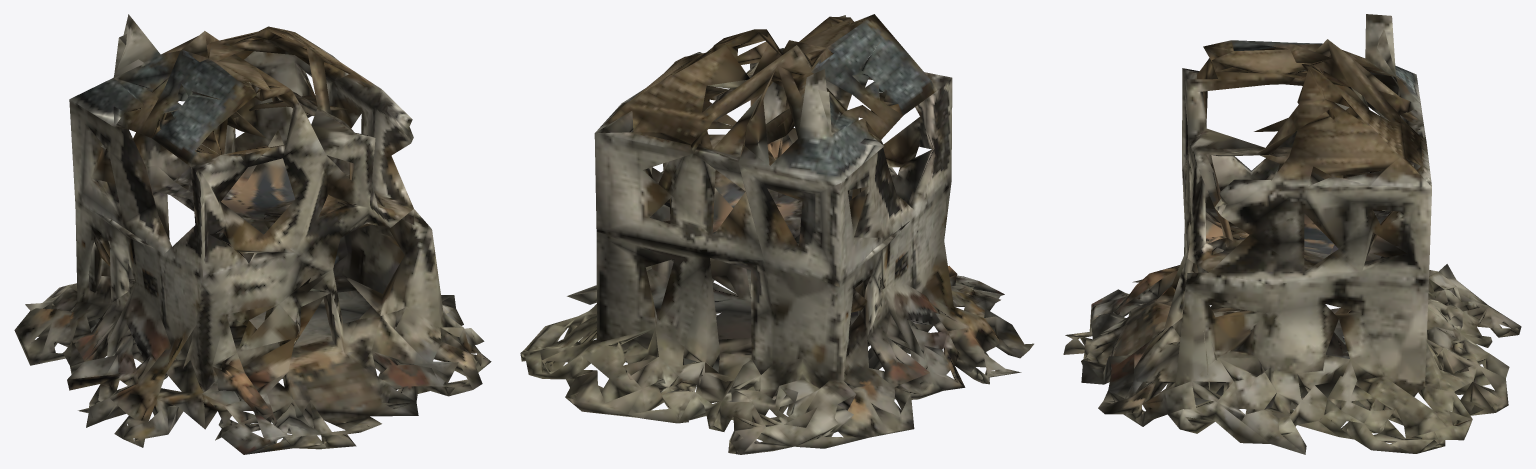
Rendered from Building2.fbx.
3 renders of one model, left to right at view 1: azimuth 30°, elevation 25°; view 2: azimuth 150°, elevation 25°; view 3: azimuth 270°, elevation 25°, orthographic. The views are drawn at different scales.
Visible parts, largest first — view 1: prop_01_LOD0; view 2: prop_01_LOD0; view 3: prop_01_LOD0.
Part boxes in pixels (x1,y1,x2,y2): prop_01_LOD0: (14,14,491,454); prop_01_LOD0: (520,14,1033,454); prop_01_LOD0: (1063,14,1521,454).
Size of the model in its own units: 0.7093 by 0.545 by 0.7128.
1 material, 1 textured.
